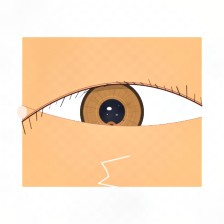foreign_body_visible: (95, 114, 127, 140)
